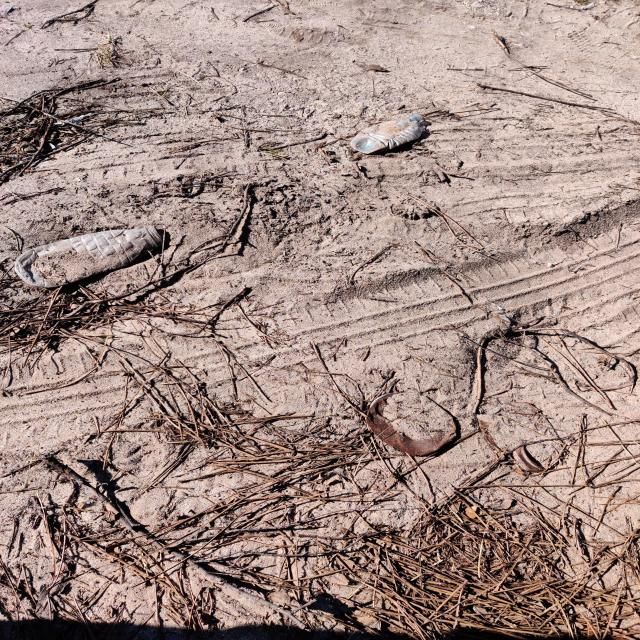litter: (16, 227, 175, 288)
